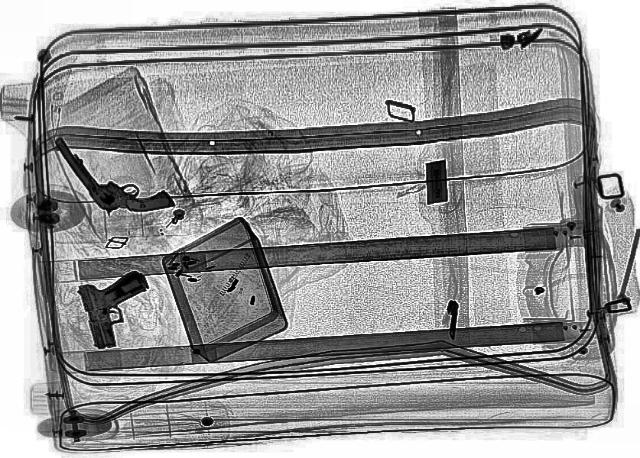Gun: (48, 119, 174, 222), (66, 269, 172, 351)
